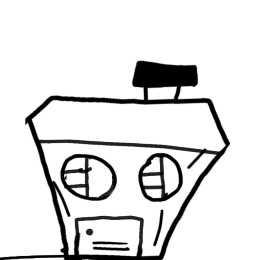bottom_placed_house: (1, 1, 260, 260)
chimney: (124, 48, 200, 112)
closed_window: (58, 145, 121, 203), (134, 148, 190, 205)
door: (72, 209, 147, 260)
roof: (14, 93, 248, 157)
wall: (30, 133, 220, 260)
